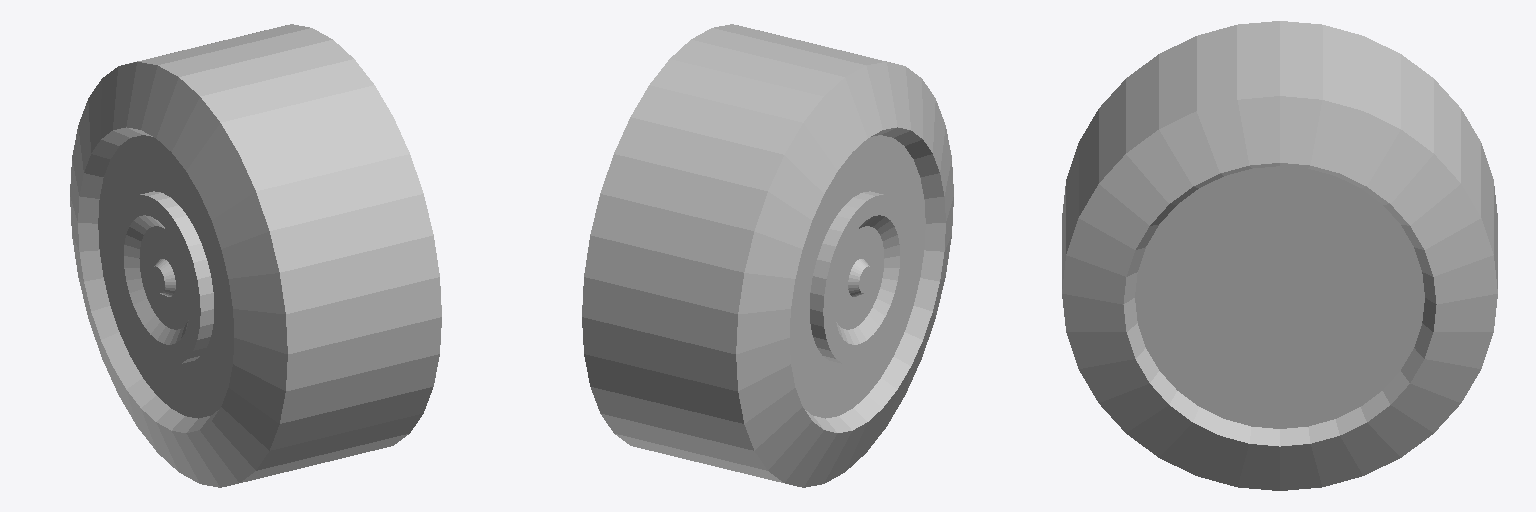
Rendered from lav_wheel.obj.
3 views of the same model, side by side, from view 1: azimuth 30°, elevation 25°; view 2: azimuth 150°, elevation 25°; view 3: azimuth 270°, elevation 25° (orthographic).
Parts seen in each view (by area): view 1: wheels_Cylinder.006; view 2: wheels_Cylinder.006; view 3: wheels_Cylinder.006.
Boxes of the visible parts, box(x1,y1,x2,y2) form: wheels_Cylinder.006: box(70, 24, 441, 487); wheels_Cylinder.006: box(582, 24, 953, 487); wheels_Cylinder.006: box(1062, 21, 1497, 490).
Size of the model in its own units: 0.8454 by 1.6 by 1.6.